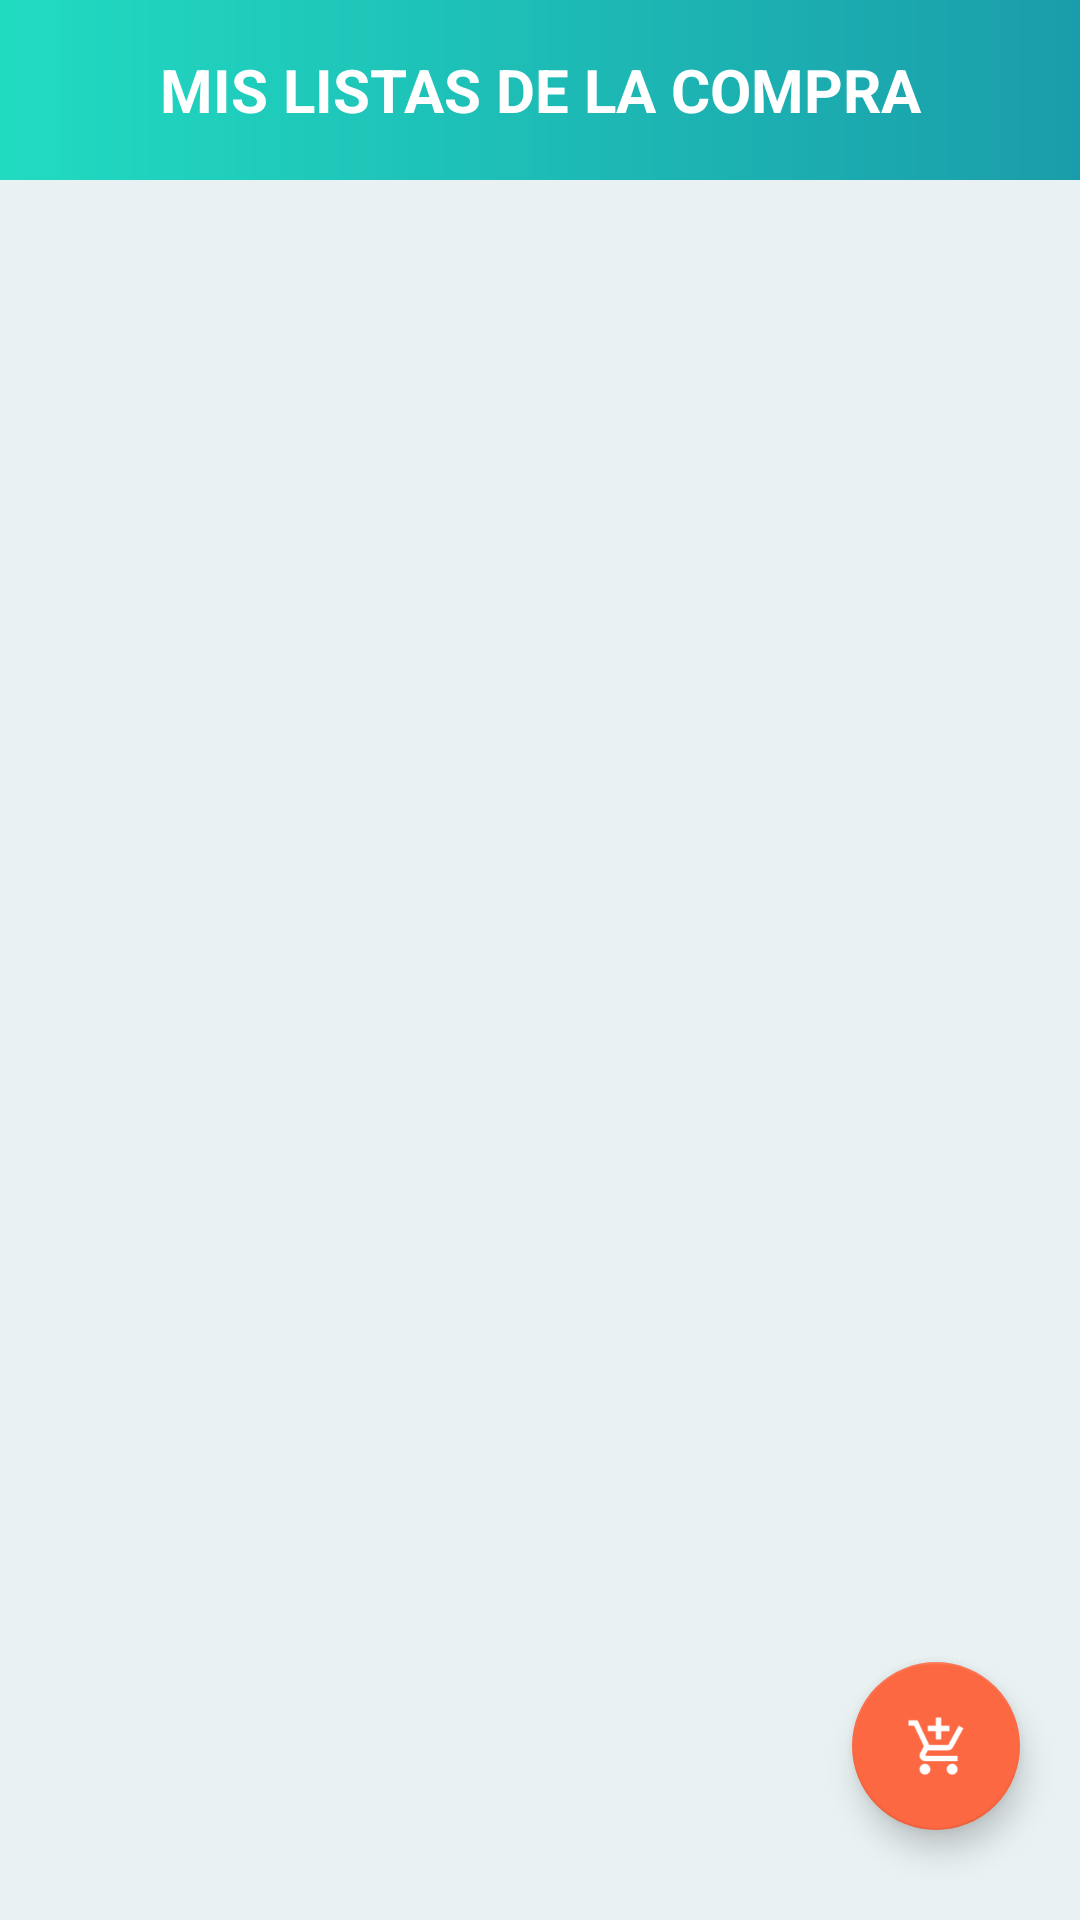

Named icons in this screenshot (1080px×1920px) and their centers, (x=x, y=y):
add shopping cart: (x=936, y=1746)
